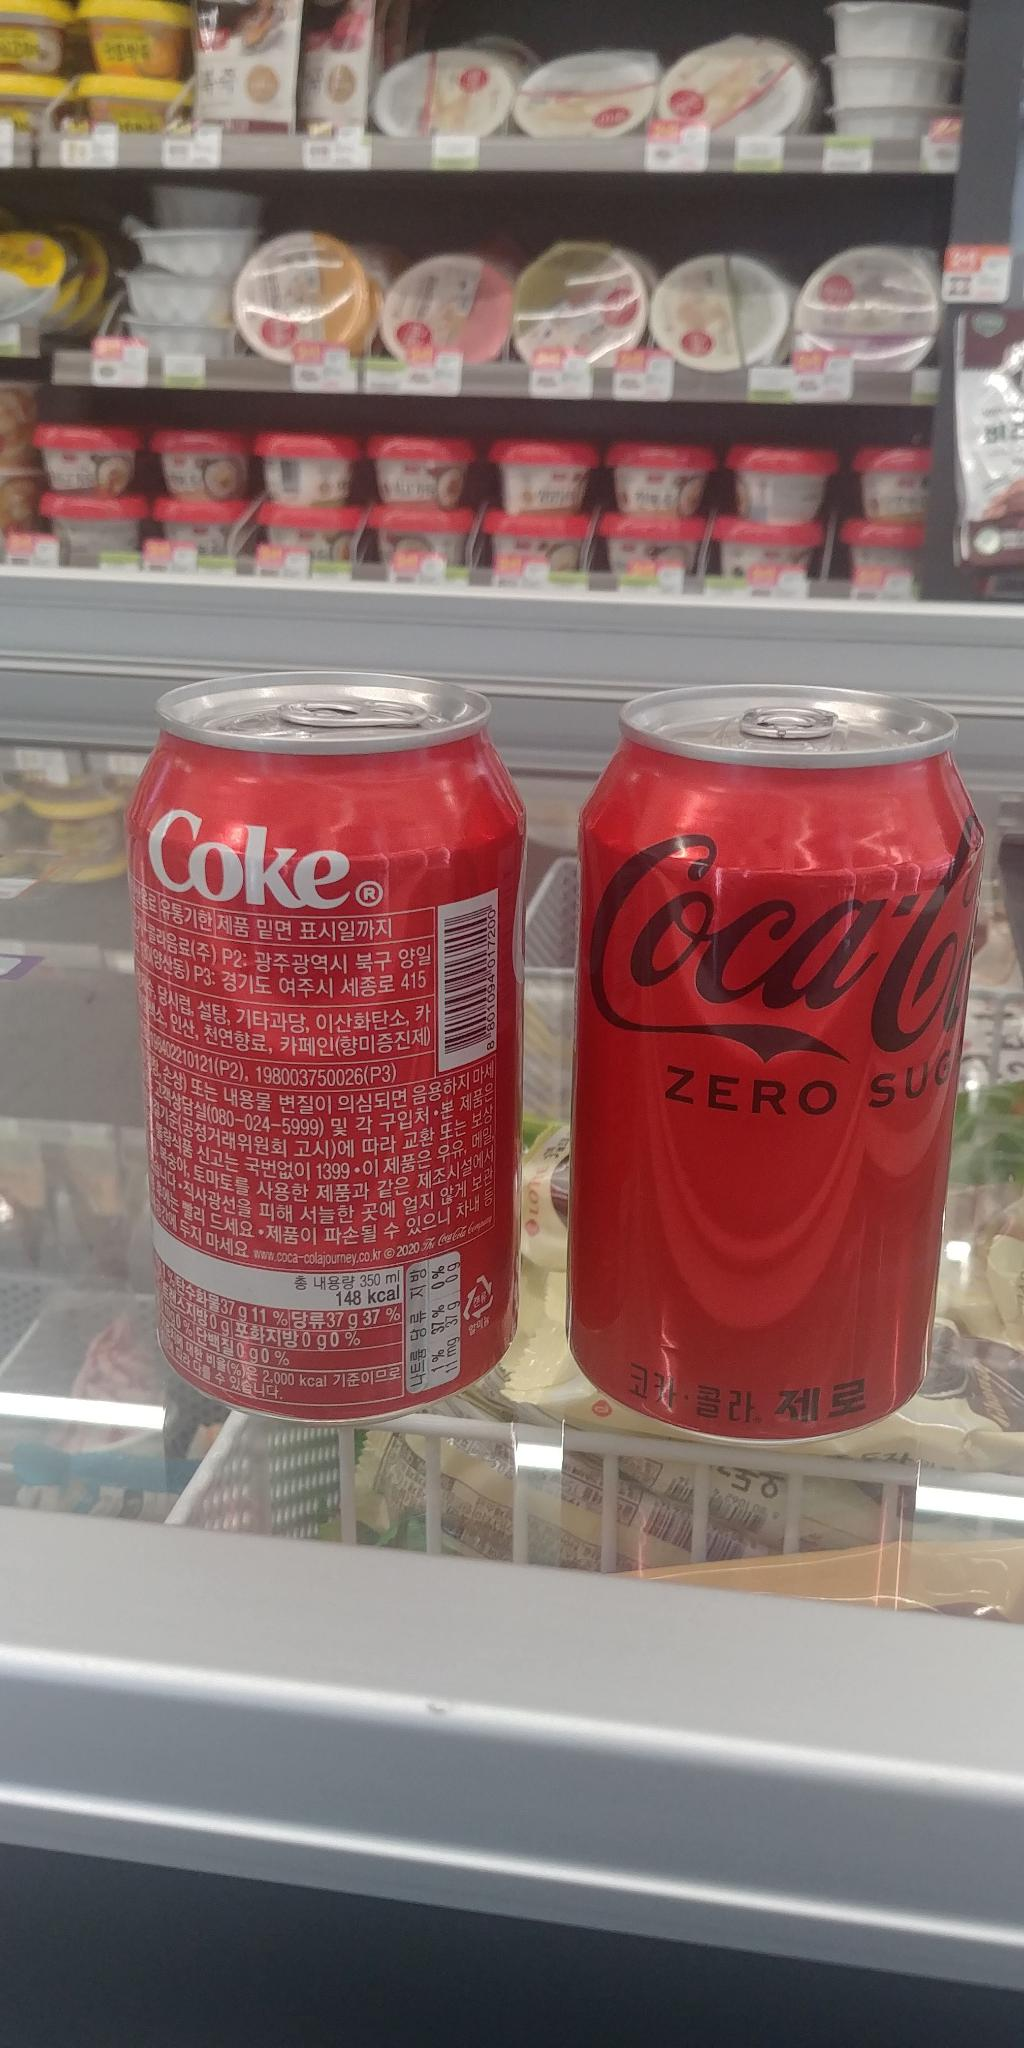cocacola: (121, 664, 525, 1424)
